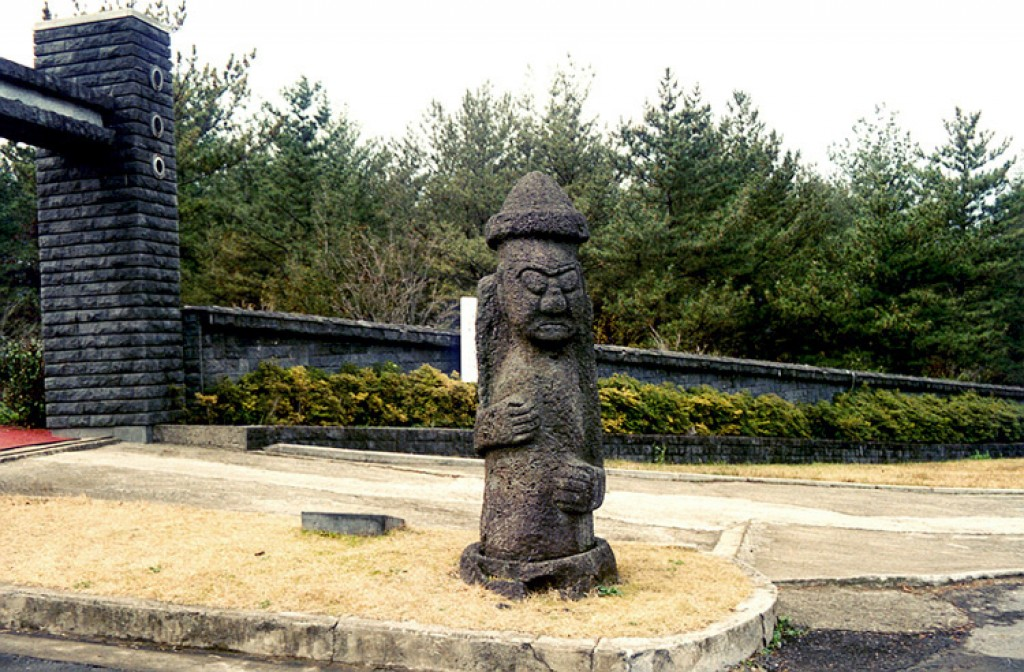Stone Statue: (434, 136, 644, 631)
